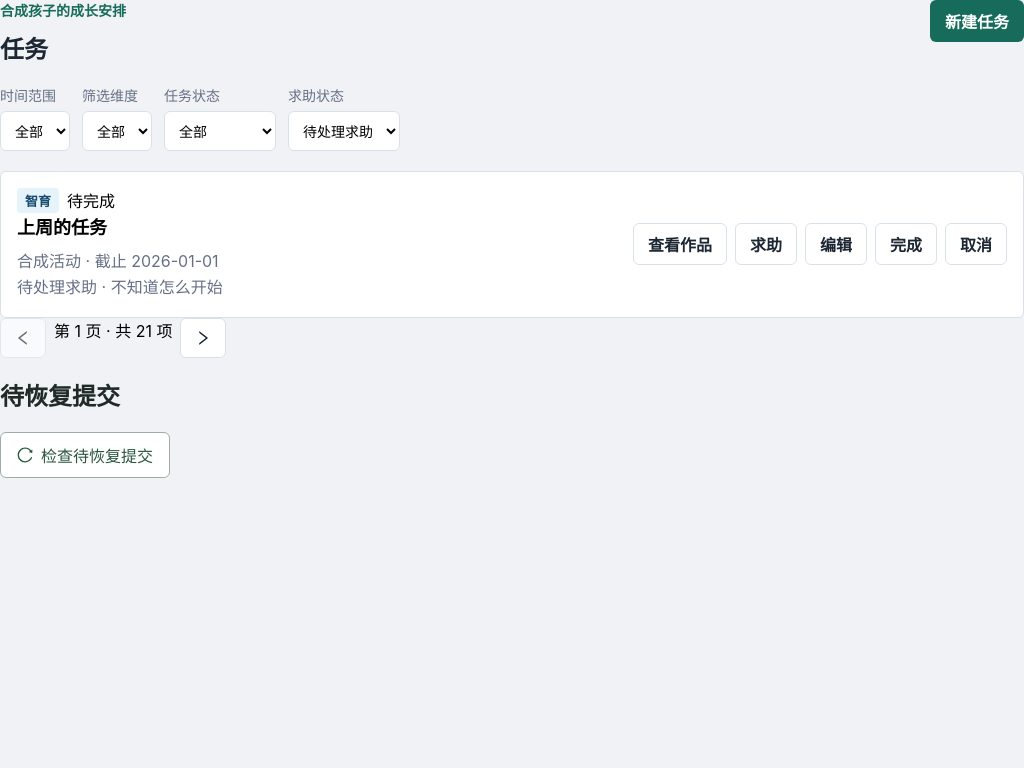
cancel/archive pending removes excluded help and returns from an empty last page
Check: the heading "上周的任务" is shown, box [17,217,107,238]
Click the button named "下一页任务".
click(203, 338)  # box [180,318,226,358]
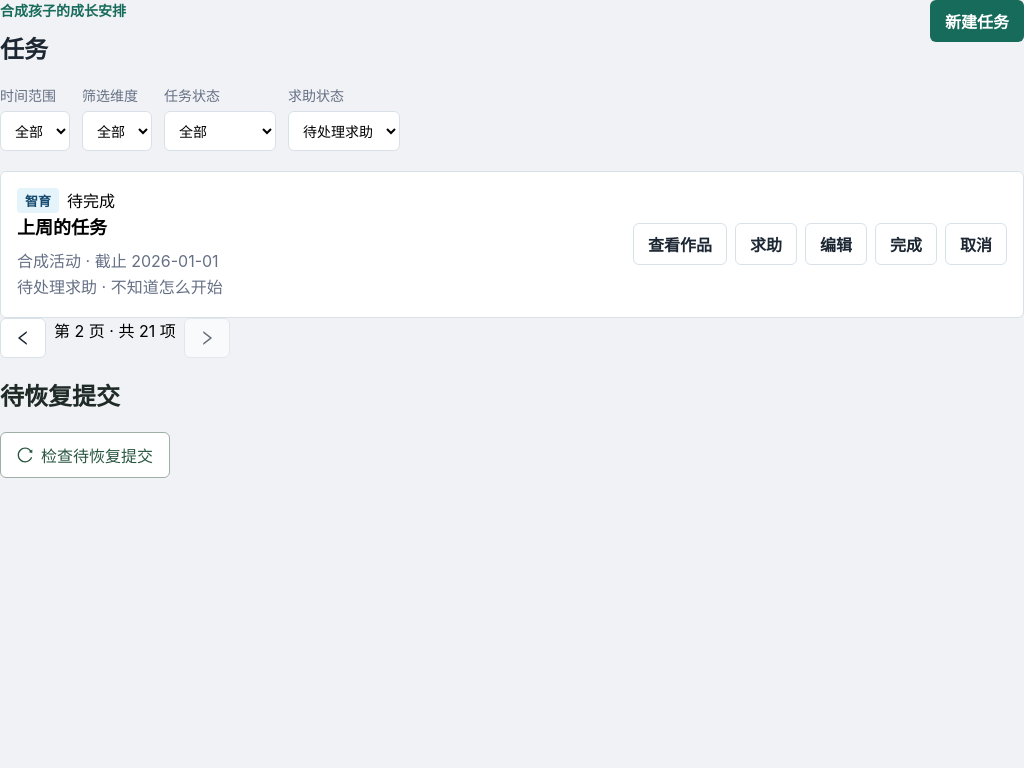
Click the button "取消".
click(976, 244)  # box [945,224,1007,266]
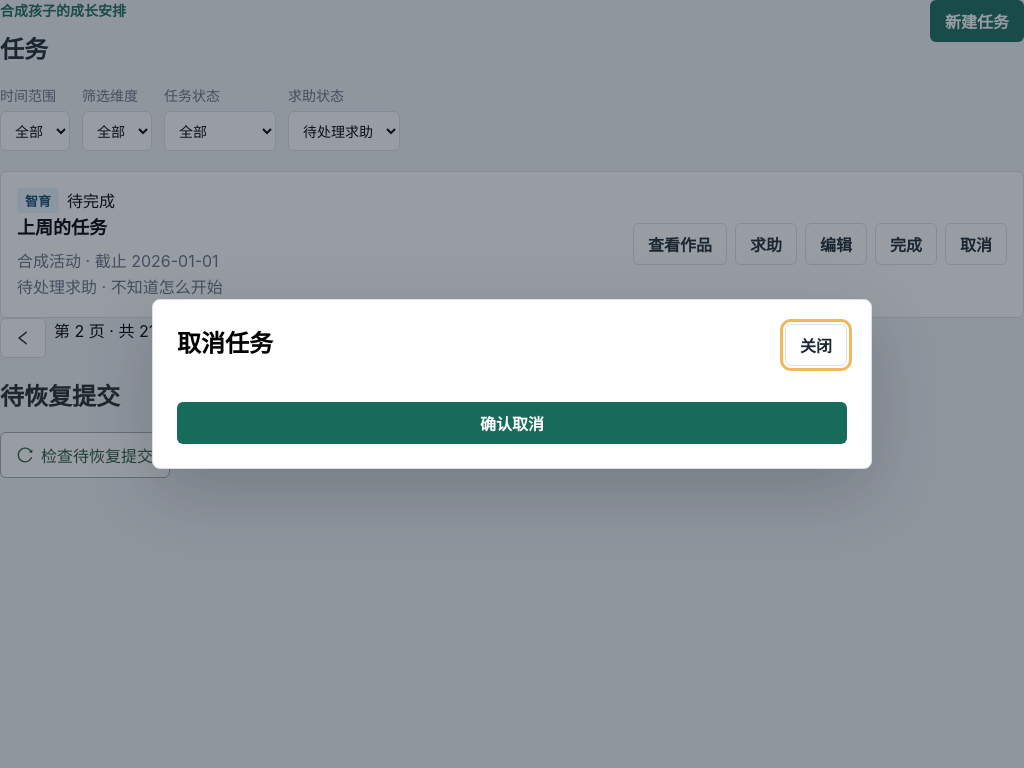
Click the 2nd button.
click(512, 423)  # box [177,402,847,444]
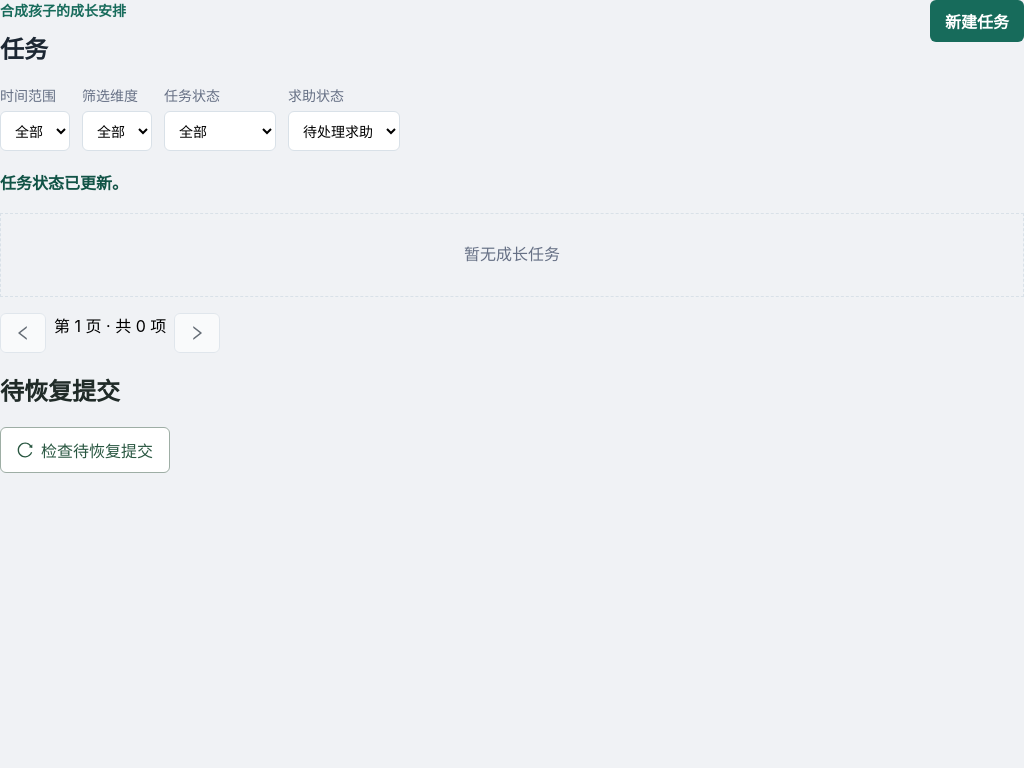
Check: the text "暂无成长任务" is shown, box [0,213,1023,297]
Check: the heading "上周的任务" is gone
Check: the text "第 1 页 · 共 0 项" is shown, box [54,316,166,336]
